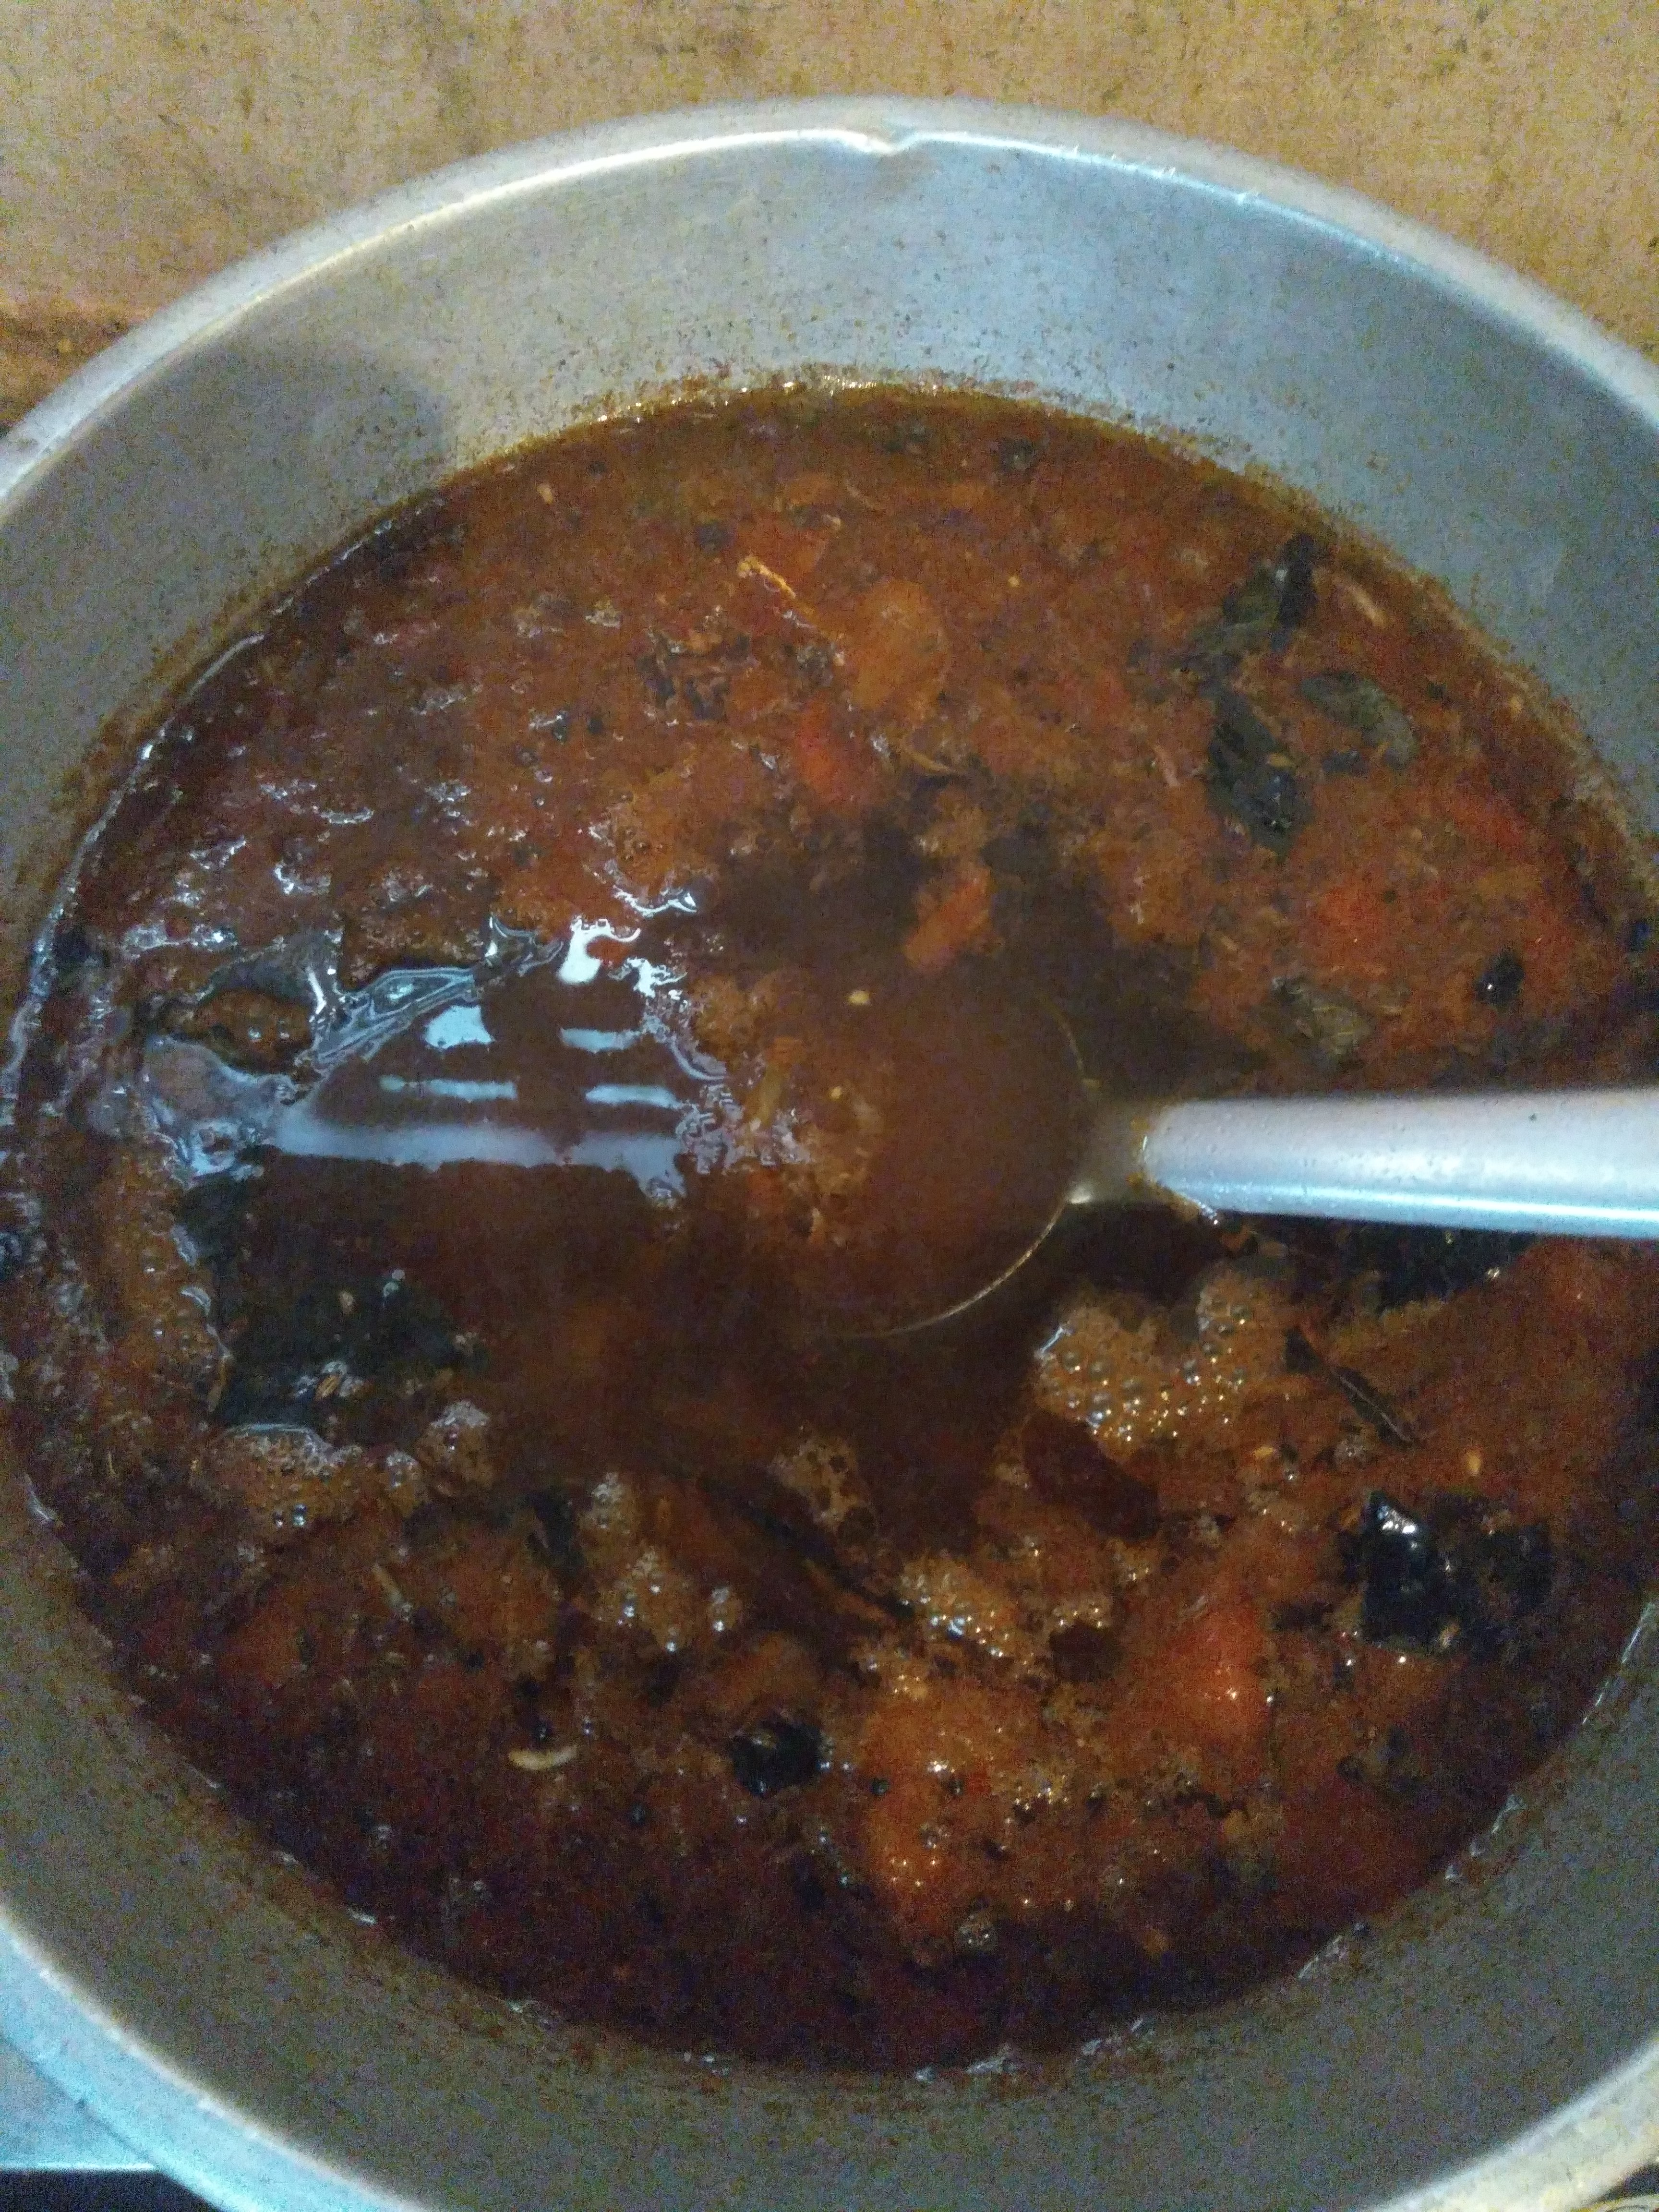food: (2, 336, 1659, 2104)
